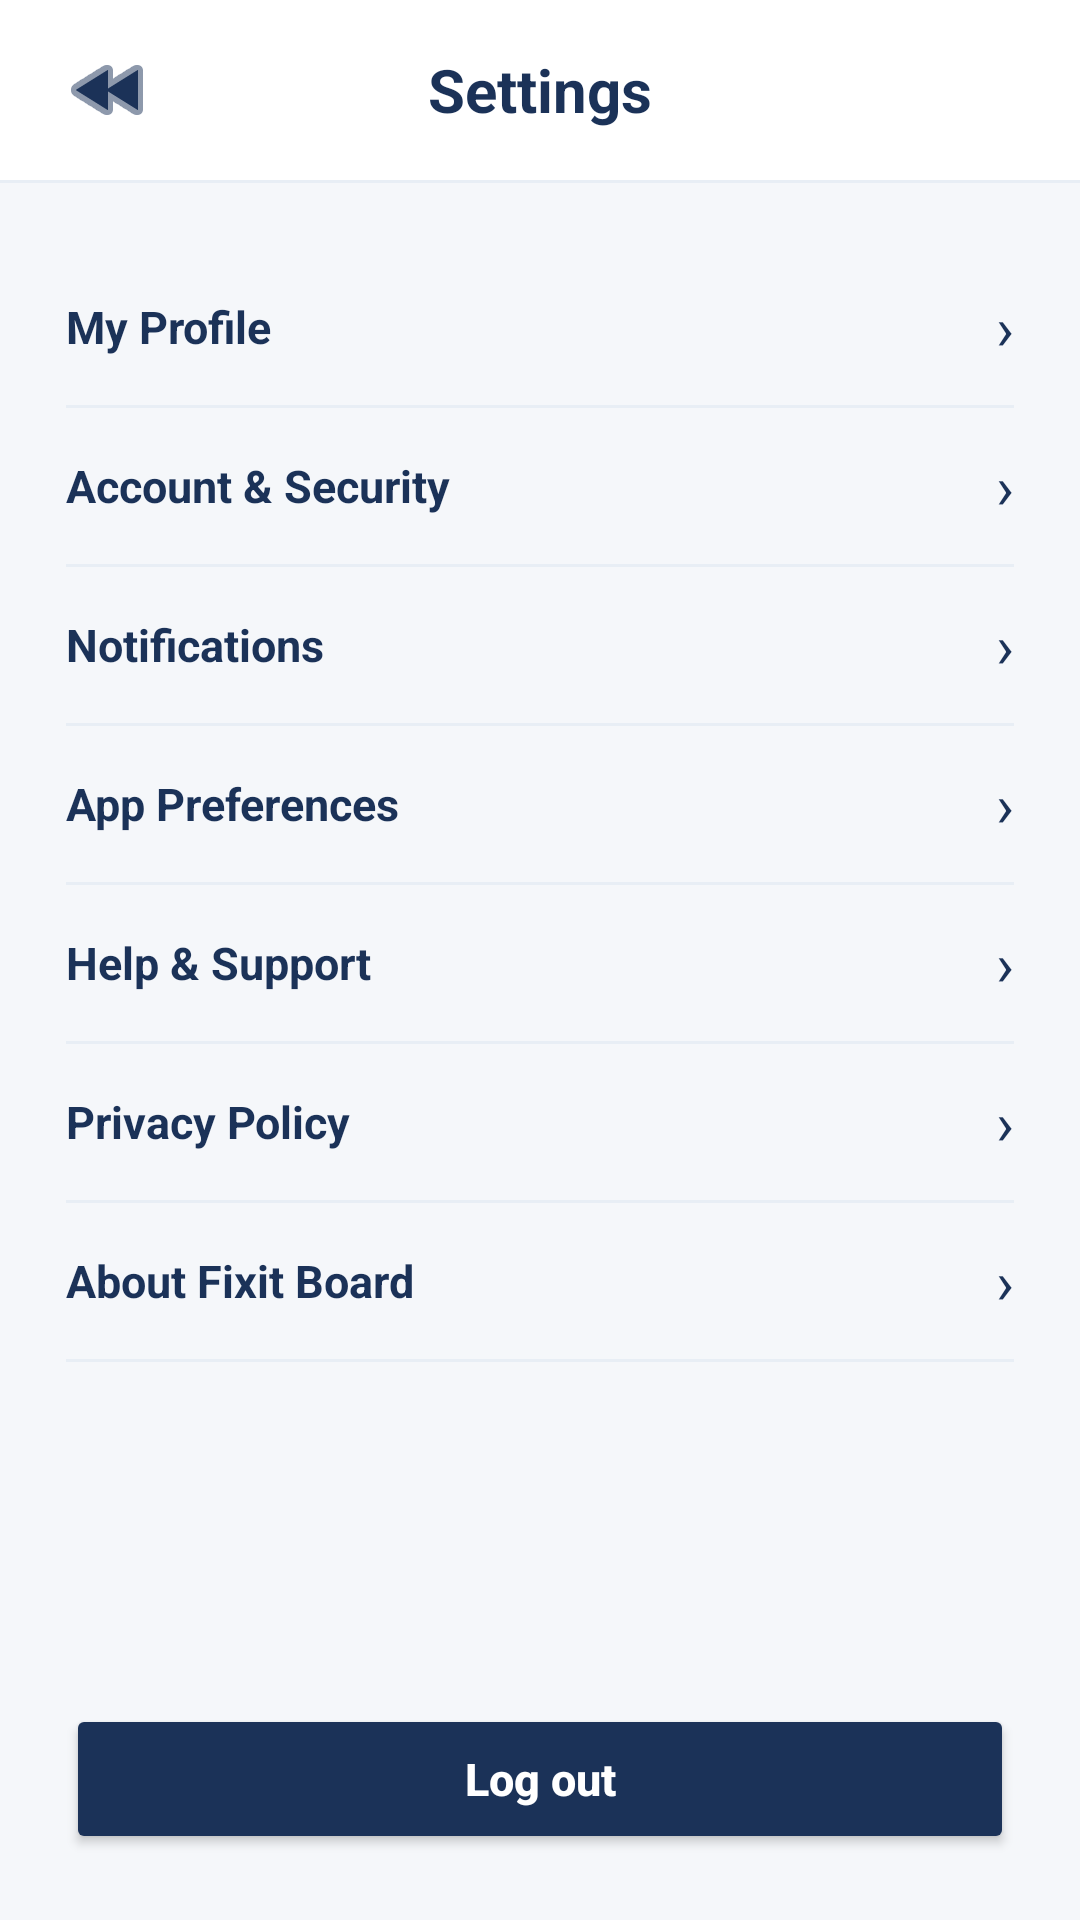

Point at icon controls on the screen. Image size 1080*1920, points as (x=x, y=y).
Back: (x=107, y=90)
